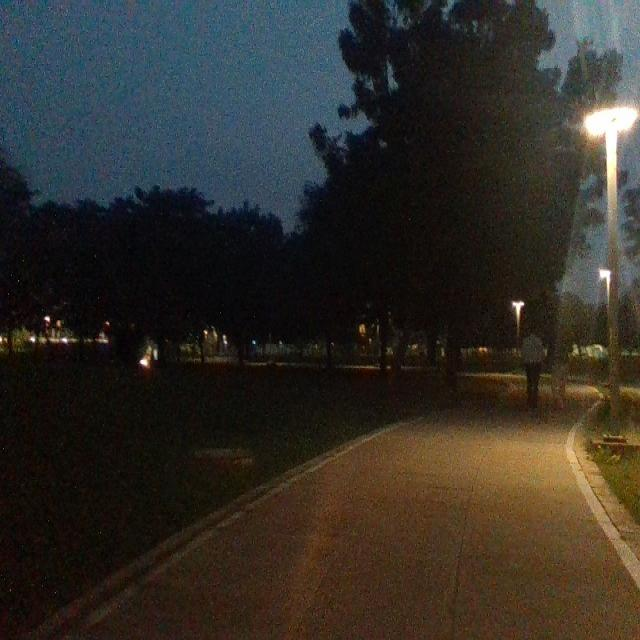lane: (81, 385, 637, 634)
